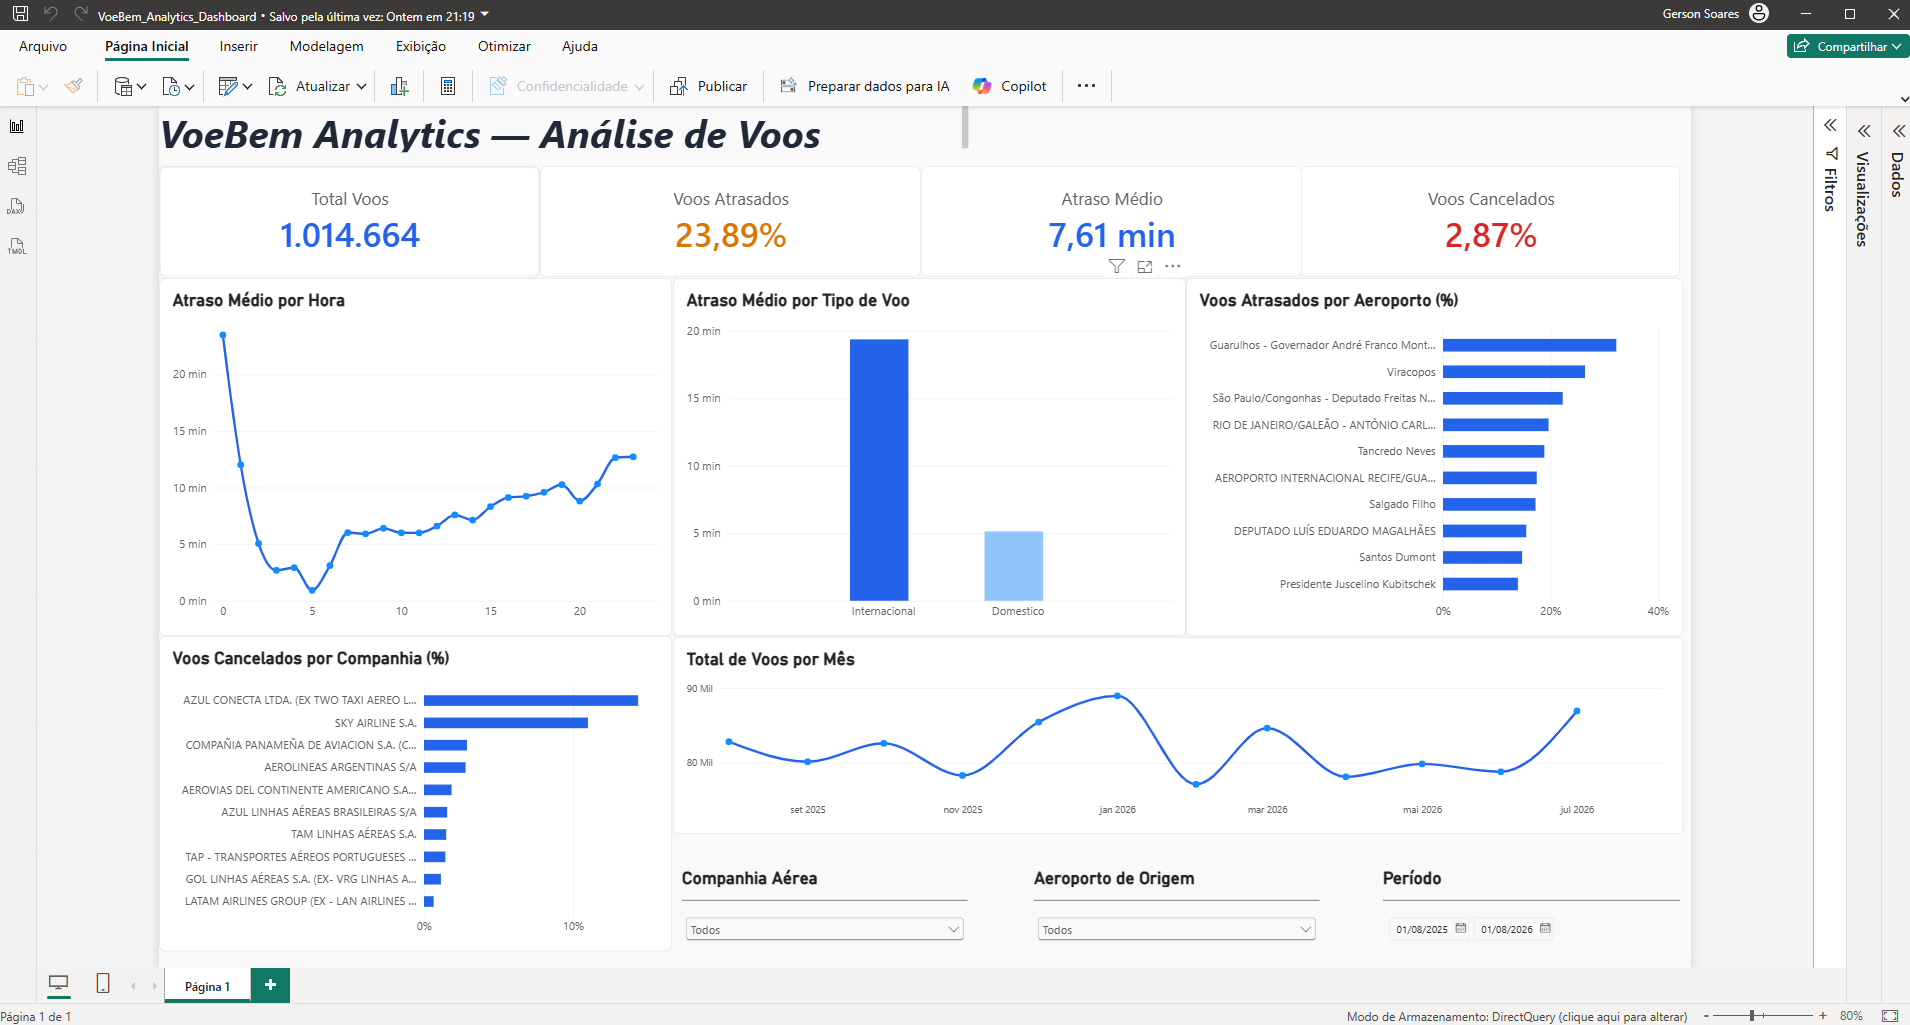

What the dashboard file says about the page in this screenshot:
{"tool":"powerbi","page":{"name":"Página 1","canvas":[1920,1080],"ordinal":0},"visuals":[{"type":"cardVisual","fields":{"Data":["obt_voos.Total Voos"]},"box":[0,75.2,477.4,139.9],"z":0},{"type":"cardVisual","fields":{"Data":["obt_voos.% Voos Atrasados"]},"box":[477.4,75.2,477.4,139.9],"z":1000},{"type":"cardVisual","fields":{"Data":["obt_voos.Atraso Médio Partida"]},"box":[954.8,75.2,477.4,139.9],"z":2000},{"type":"cardVisual","fields":{"Data":["obt_voos.% Voos Cancelados"]},"box":[1430.4,75.2,475.6,139.9],"z":3000},{"type":"lineChart","title":"Atraso Médio por Hora","fields":{"Category":["obt_voos.hora_partida_prevista"],"Y":["obt_voos.Atraso Médio Partida"]},"box":[0,215.1,643.5,449.4],"z":4000},{"type":"clusteredColumnChart","title":"Atraso Médio por Tipo de Voo","fields":{"Category":["obt_voos.escopo_voo"],"Y":["obt_voos.Atraso Médio Partida"]},"box":[643.5,215.1,643.5,449.4],"z":5000},{"type":"clusteredBarChart","title":"Voos Atrasados por Aeroporto (%)","fields":{"Category":["obt_voos.nome_aeroporto_origem"],"Y":["obt_voos.% Voos Atrasados"]},"box":[1287,215.1,622.5,449.4],"z":6000},{"type":"clusteredBarChart","title":"Voos Cancelados por Companhia (%)","fields":{"Category":["obt_voos.nome_companhia"],"Y":["obt_voos.% Voos Cancelados"]},"box":[0,664.5,643.5,395.2],"z":7000},{"type":"slicer","title":"Companhia Aérea","fields":{"Values":["obt_voos.nome_companhia"]},"box":[655.7,954.8,358.5,97.9],"z":8000},{"type":"slicer","title":"Aeroporto de Origem","fields":{"Values":["obt_voos.nome_aeroporto_origem"]},"box":[1096.4,954.8,358.5,97.9],"z":9000},{"type":"slicer","title":"Período","fields":{"Values":["obt_voos.partida_prevista_data"]},"box":[1533.6,954.8,372.5,97.9],"z":10000},{"type":"textbox","box":[0,0,1014.2,57.7],"z":11000},{"type":"lineChart","title":"Total de Voos por Mês","fields":{"Category":["obt_voos.mes_referencia"],"Y":["obt_voos.Total Voos"]},"box":[643.6,665.2,1266,246.6],"z":12000}]}

Visuals, with their boxes on the page's 1920x1080 design canvas (x1, y1, x2, y2). These are canvas units, not pixel positions in the 1910x1025 screenshot, which may show the page scaled, cropped or inside an application window:
cardVisual - obt_voos.Total Voos: box(0, 75, 477, 215)
cardVisual - obt_voos.% Voos Atrasados: box(477, 75, 955, 215)
cardVisual - obt_voos.Atraso Médio Partida: box(955, 75, 1432, 215)
cardVisual - obt_voos.% Voos Cancelados: box(1430, 75, 1906, 215)
"Atraso Médio por Hora" lineChart: box(0, 215, 644, 664)
"Atraso Médio por Tipo de Voo" clusteredColumnChart: box(644, 215, 1287, 664)
"Voos Atrasados por Aeroporto (%)" clusteredBarChart: box(1287, 215, 1910, 664)
"Voos Cancelados por Companhia (%)" clusteredBarChart: box(0, 664, 644, 1060)
"Companhia Aérea" slicer: box(656, 955, 1014, 1053)
"Aeroporto de Origem" slicer: box(1096, 955, 1455, 1053)
"Período" slicer: box(1534, 955, 1906, 1053)
textbox: box(0, 0, 1014, 58)
"Total de Voos por Mês" lineChart: box(644, 665, 1910, 912)
